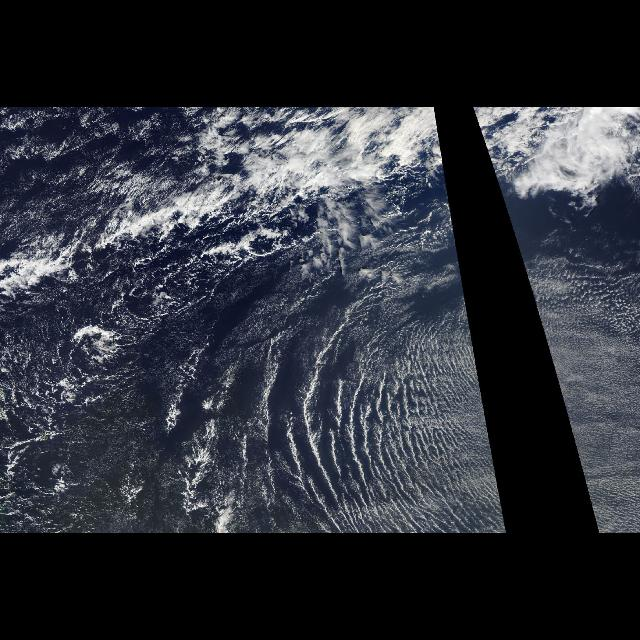Fish: (2, 124, 402, 290)
Gravel: (0, 311, 172, 534)
Sugar: (221, 268, 507, 534), (522, 268, 640, 534)
